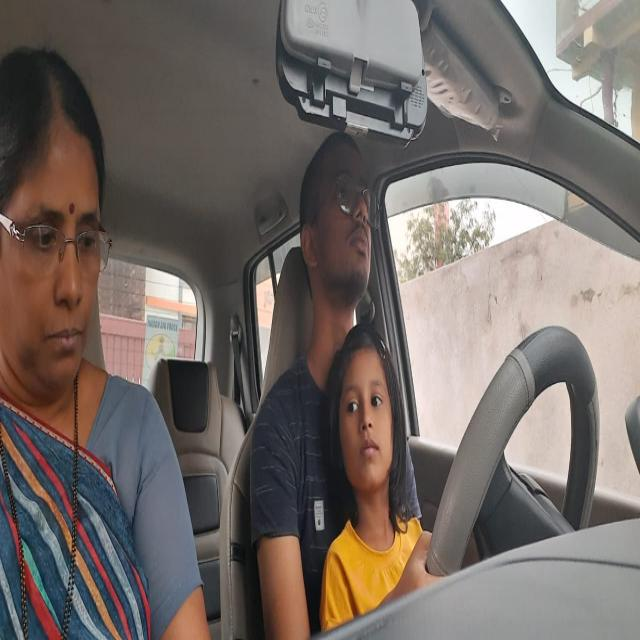child: (331, 344, 408, 502)
person: (1, 58, 112, 395), (300, 137, 374, 301)
